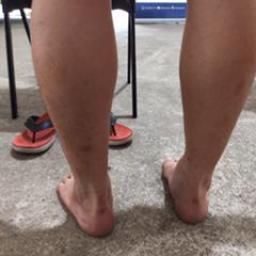Back View -Both Feet-: (50, 131, 234, 234)
